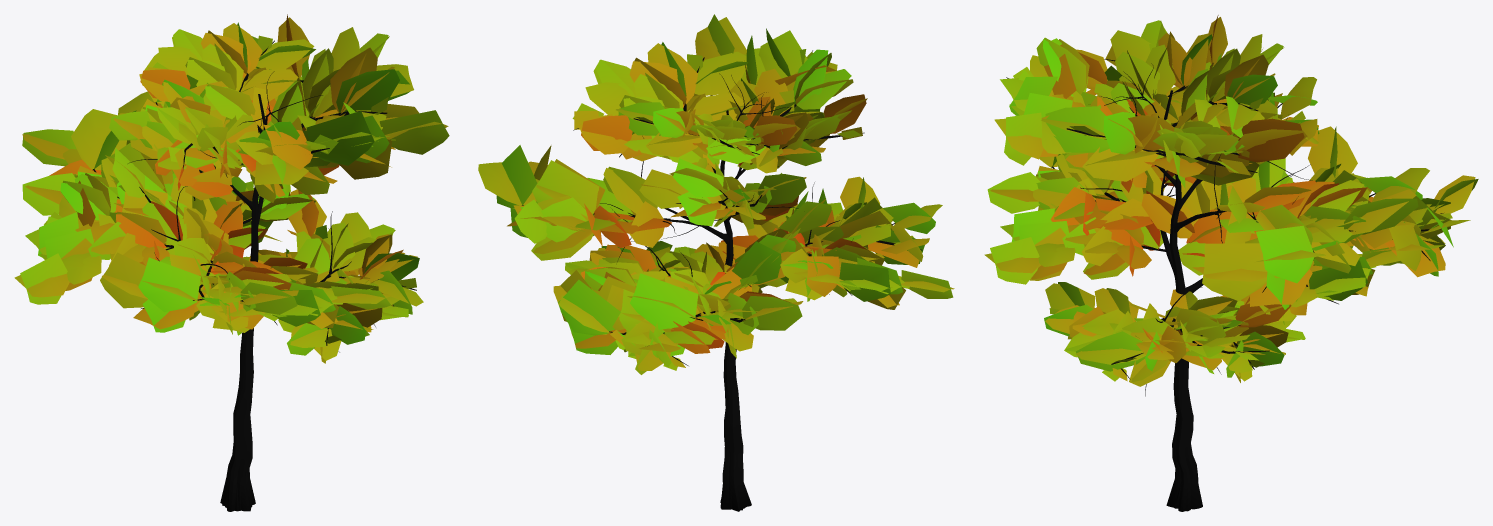
The model's file is Tree_med_2.glb.
3 views of the same model, side by side, from view 1: azimuth 30°, elevation 25°; view 2: azimuth 150°, elevation 25°; view 3: azimuth 270°, elevation 25° (orthographic). The views are drawn at different scales.
Visible parts, largest first — view 1: Tree med 2; view 2: Tree med 2; view 3: Tree med 2.
Part boxes in pixels (box(x1,y1,x2,y2)): Tree med 2: box(14, 14, 449, 511); Tree med 2: box(478, 14, 954, 511); Tree med 2: box(984, 15, 1478, 511).
Size of the model in its own units: 35.69 by 34.11 by 33.68.
